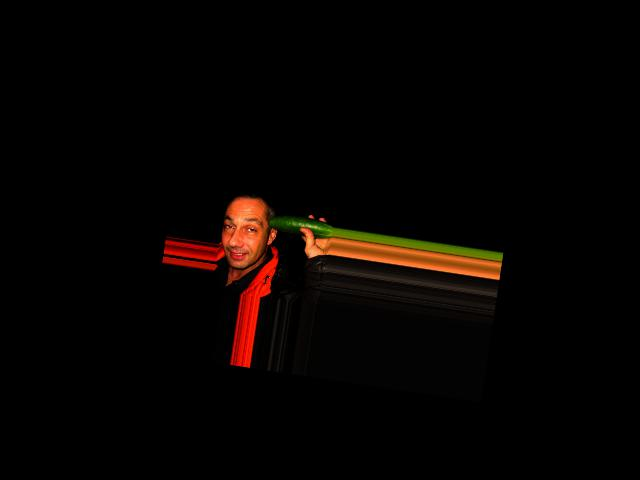cucumber: (266, 211, 334, 240)
